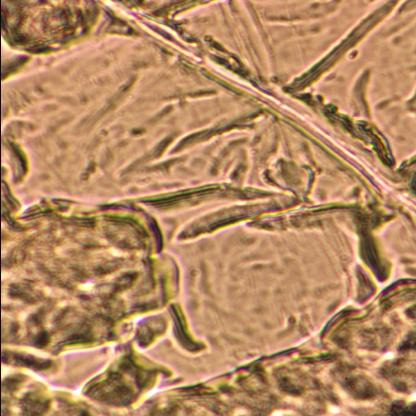Normal: (0, 219, 416, 416)
